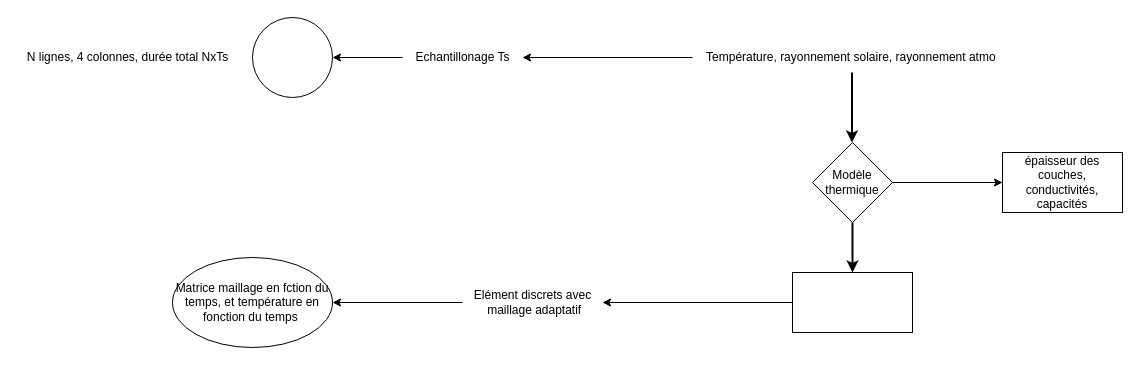
The diagram is 1140 pixels wide and 365 high, and some of its shapes have lost their labels. Here are the shapes that lost their labels. From the top down, the box of each, then its label:
(252, 16, 332, 98): Matrice
(792, 272, 912, 332): Champs de température avec discrétisation spatiale
